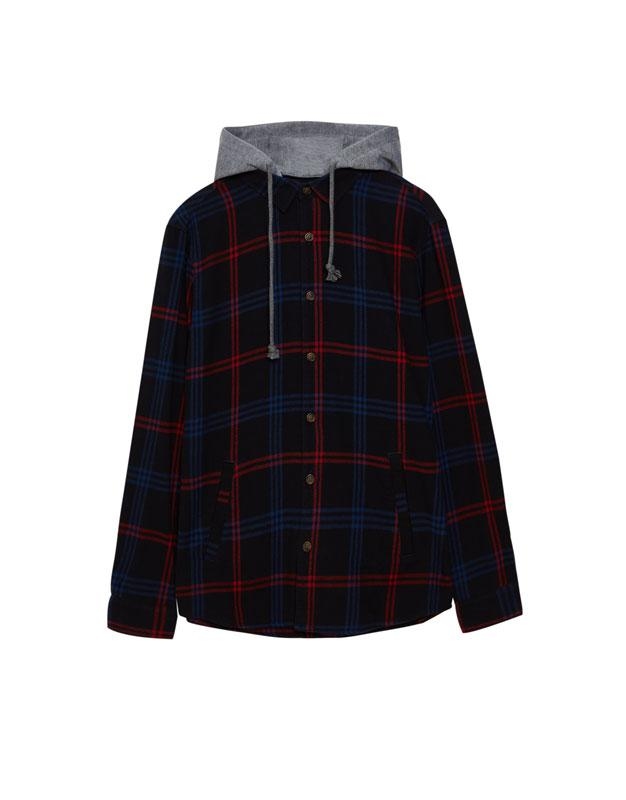teeshirt: (100, 114, 533, 655)
